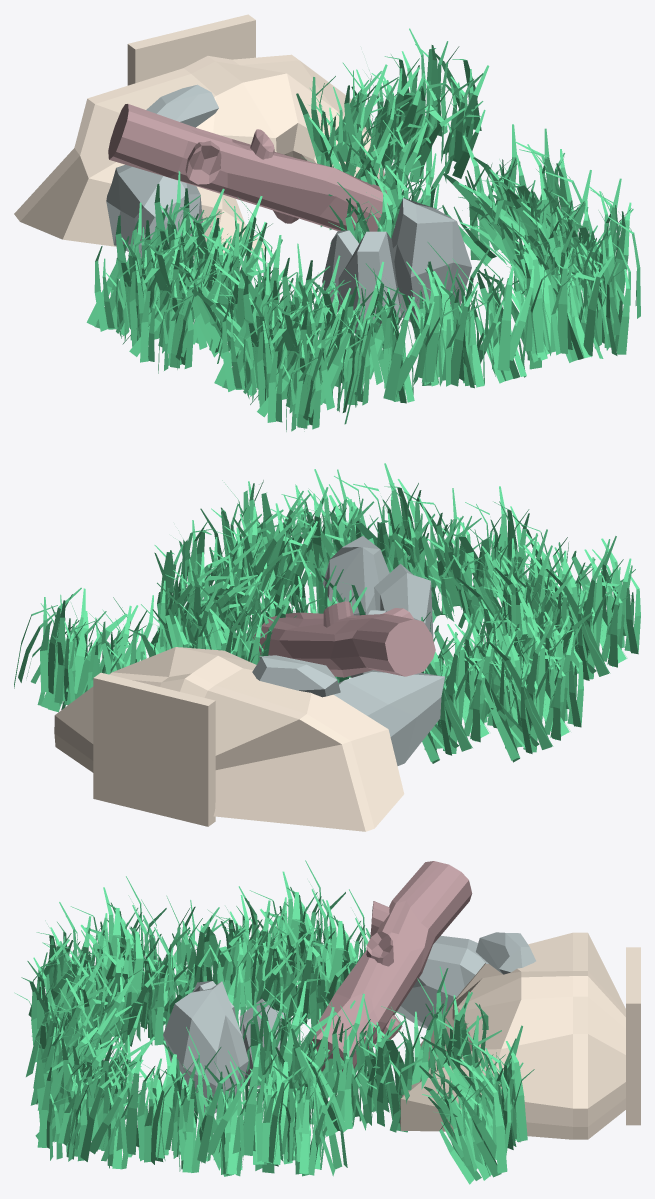
The model's file is 042020map01ShadowCastingDraft.gltf.
3 views of the same model, one above another, from view 1: azimuth 30°, elevation 25°; view 2: azimuth 150°, elevation 25°; view 3: azimuth 270°, elevation 25° (orthographic). The views are drawn at different scales.
Parts seen in each view (by area): view 1: Cube.005, Cube.003, Cube.001, Cube.007, Cube.004, Cube, Cube.008, Cube.002, Plane.285, Plane.457, Plane.411, Plane.224 (+5 smaller); view 2: Cube.005, Cube.007, Cube.003, Cube.004, Cube.001, Cube.008, Cube, Plane.947, Plane.1042, Plane.575, Plane.960, Plane.787 (+2 smaller); view 3: Cube.005, Cube.003, Cube.001, Cube.004, Cube.007, Cube.008, Plane.500, Cube.002, Plane.588, Plane.586, Plane.790, Plane.741 (+27 smaller).
Boxes of the visible parts, bbox=[...] form: Cube.005: bbox=[14, 54, 384, 256]; Cube.003: bbox=[108, 104, 387, 231]; Cube.001: bbox=[391, 198, 471, 322]; Cube.007: bbox=[127, 14, 255, 85]; Cube.004: bbox=[106, 164, 202, 257]; Cube: bbox=[337, 231, 401, 333]; Cube.008: bbox=[146, 84, 218, 127]; Cube.002: bbox=[322, 230, 358, 303]; Plane.285: bbox=[421, 267, 439, 382]; Plane.457: bbox=[520, 236, 543, 353]; Plane.411: bbox=[497, 265, 513, 370]; Plane.224: bbox=[383, 297, 414, 401]; Cube.005: bbox=[54, 647, 404, 831]; Cube.007: bbox=[93, 672, 215, 826]; Cube.003: bbox=[253, 601, 435, 677]; Cube.004: bbox=[334, 671, 444, 765]; Cube.001: bbox=[323, 536, 389, 615]; Cube.008: bbox=[252, 655, 340, 697]; Cube: bbox=[374, 564, 433, 639]; Plane.947: bbox=[489, 642, 551, 749]; Plane.1042: bbox=[546, 569, 608, 676]; Plane.575: bbox=[427, 663, 471, 751]; Plane.960: bbox=[481, 676, 519, 760]; Plane.787: bbox=[48, 587, 81, 693]; Cube.005: bbox=[400, 932, 625, 1139]; Cube.003: bbox=[307, 861, 472, 1071]; Cube.001: bbox=[163, 981, 248, 1112]; Cube.004: bbox=[397, 935, 484, 1028]; Cube.007: bbox=[626, 947, 640, 1125]; Cube.008: bbox=[476, 932, 535, 974]; Plane.500: bbox=[240, 1043, 260, 1155]; Cube.002: bbox=[239, 999, 285, 1087]; Plane.588: bbox=[125, 1046, 143, 1154]; Plane.586: bbox=[155, 1054, 176, 1158]; Plane.790: bbox=[506, 1041, 527, 1141]; Plane.741: bbox=[481, 1073, 507, 1173].
Bounding box in the file's own units: 71.46 × 25.21 × 84.3.
